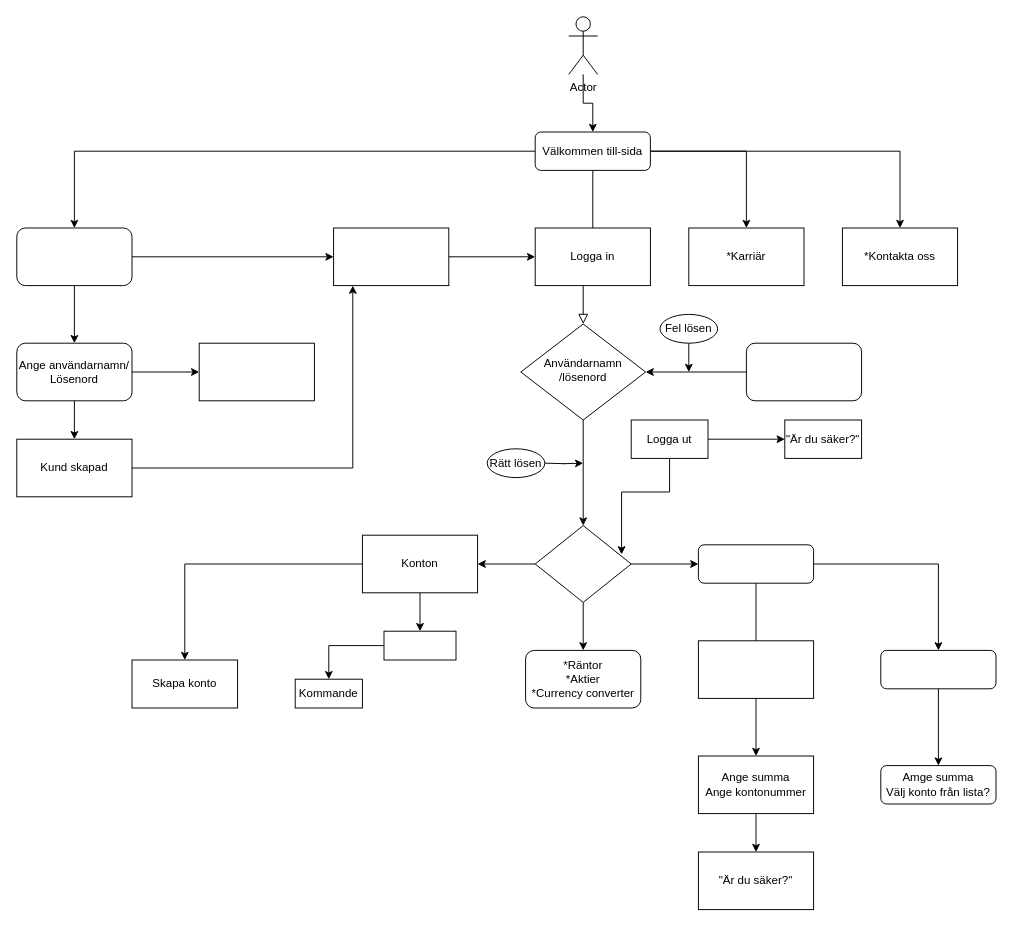
The diagram is 1013 pixels wide and 926 high, and some of its shapes have lost their labels. Here are the shapes that lost their labels. From the top down, the centre of each, then its label:
the point at 74,256: Skapa kund
the point at 391,256: Existerande konton
the point at 256,371: Om användarnamn finns, be om nytt
the point at 803,371: Minska antal försök Fråga "try again"
the point at 582,563: Min sida/ Saldo
the point at 755,563: Överföringar
the point at 419,645: Transaktioner
the point at 755,669: *Externt
the point at 938,669: Lokalt
